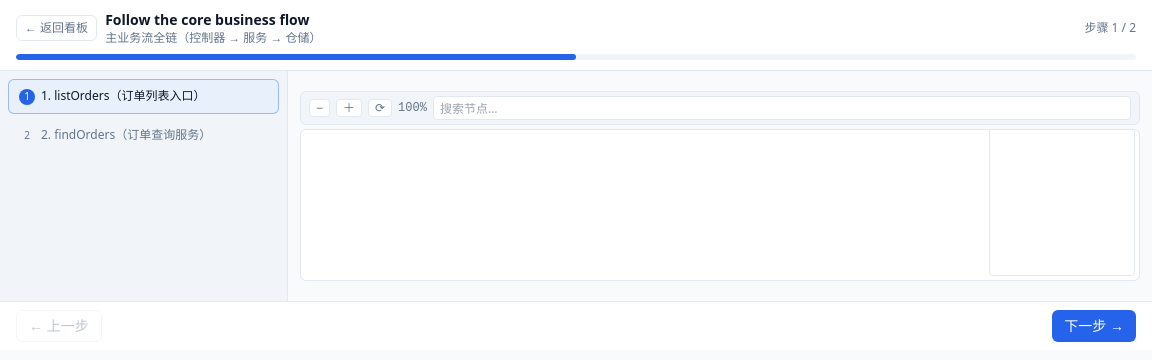
Test: TourPlayer (issue 13) › steps forward and backward with the footer buttons
The image size is (1152, 360).
Click the button with test id "tour-next". click: (1094, 326)
box: [1052,310,1136,342]
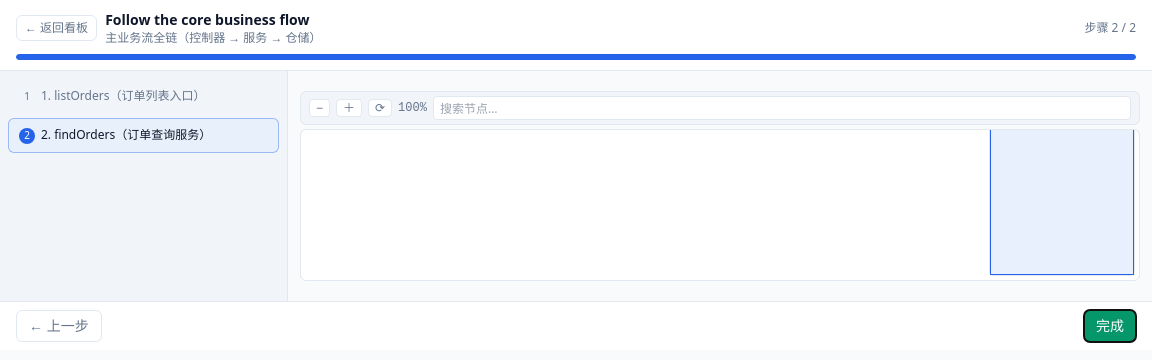
Expected: the text with test id "tour-progress" reads "步骤 2 / 2", [1084,20,1136,36]
Expected: the button with test id "tour-done" is shown, [1084,310,1136,342]
Click the button with test id "tour-prev". click: (59, 326)
box: [16,310,102,342]
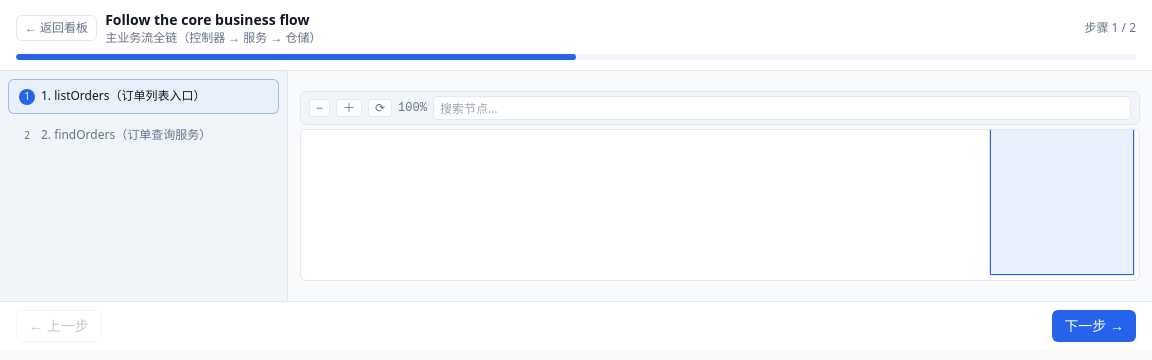
Expected: the text with test id "tour-progress" reads "步骤 1 / 2", [1084,20,1136,36]
Expected: the button with test id "tour-next" is shown, [1052,310,1136,342]
